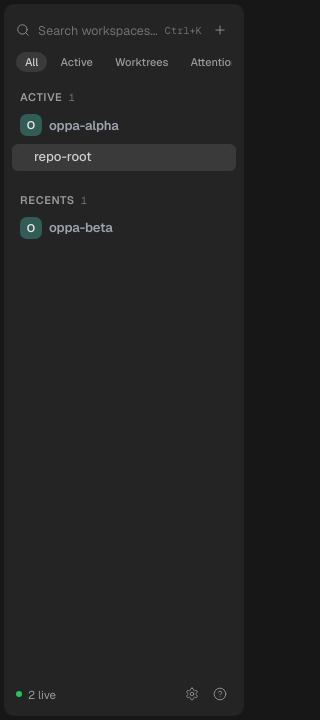
it: LeftSidebar › clears search query when clear button is clicked
Type "test" into the field with placeholder "Search workspaces..." at (97, 30), box [38,22,157,38]
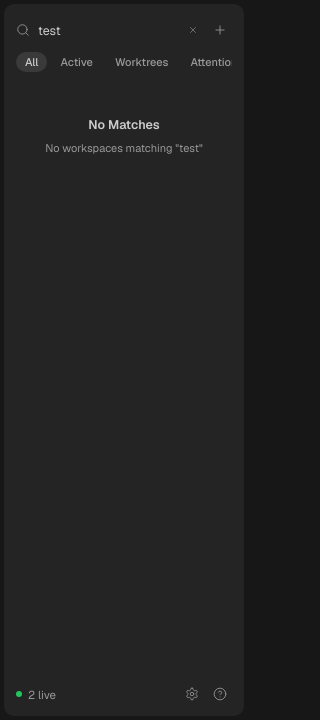
Expected: the button named "clear search" is shown
Click the button named "clear search" at (193, 30), box [184,21,202,39]
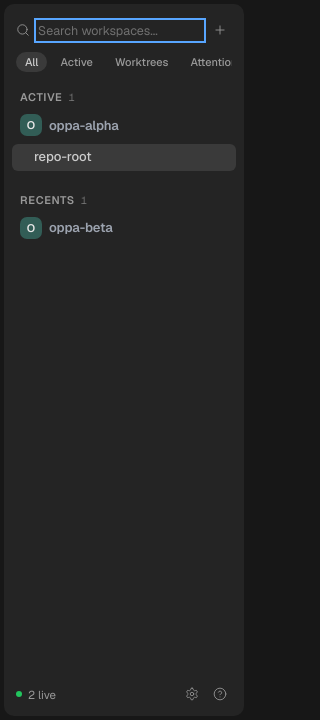
Expected: the field with placeholder "Search workspaces..." is empty, [38,22,202,38]
